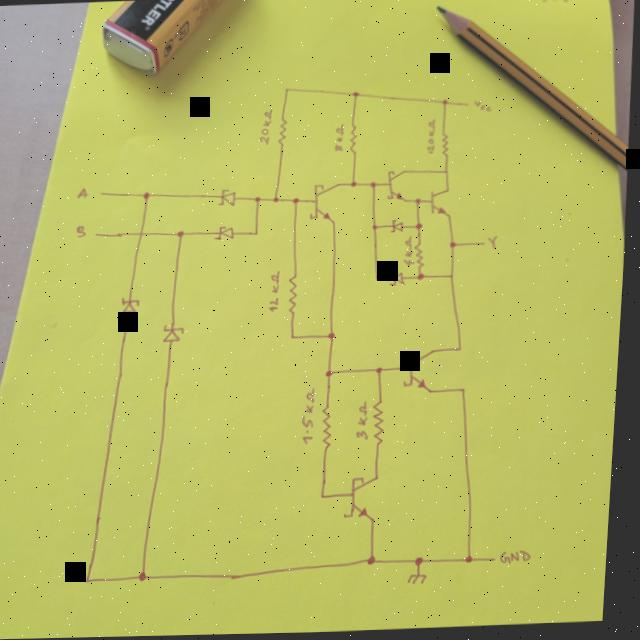crossover: (139, 230, 148, 238)
diode: (163, 322, 188, 344), (121, 296, 144, 316), (219, 189, 239, 208), (391, 270, 412, 288), (215, 227, 238, 241), (390, 219, 406, 236)
ground: (412, 575, 434, 587)
junction: (142, 570, 155, 583), (420, 558, 431, 568), (470, 556, 481, 566), (328, 369, 339, 379), (419, 274, 430, 284), (373, 557, 383, 567), (330, 331, 340, 341), (90, 575, 100, 585), (378, 366, 387, 376), (255, 195, 265, 204), (178, 229, 188, 238), (143, 192, 153, 200), (352, 91, 361, 99), (451, 242, 460, 250), (417, 223, 425, 232), (273, 196, 282, 204), (292, 333, 300, 342), (254, 230, 263, 238), (463, 387, 471, 396), (294, 198, 302, 206), (371, 182, 379, 190), (441, 100, 449, 108), (324, 493, 332, 501), (283, 87, 291, 95), (351, 181, 359, 188), (460, 347, 467, 354), (417, 198, 423, 206), (451, 275, 458, 281), (374, 225, 380, 232), (444, 170, 451, 176), (377, 276, 383, 282)
resistor: (374, 400, 392, 447), (322, 405, 339, 452), (288, 274, 302, 315), (276, 117, 290, 146), (348, 124, 361, 155), (439, 131, 453, 159), (416, 243, 429, 270)
terminal: (462, 102, 473, 112), (93, 230, 103, 238), (99, 189, 107, 197), (481, 243, 489, 249), (498, 558, 504, 564)
text: (304, 388, 322, 446), (257, 106, 276, 148), (270, 271, 285, 315), (360, 402, 375, 442), (505, 550, 538, 568), (426, 120, 439, 157), (405, 236, 420, 267), (334, 123, 348, 154), (473, 100, 494, 115), (489, 236, 502, 251), (78, 187, 93, 199), (77, 225, 90, 237)
transistor: (403, 350, 442, 397), (347, 477, 386, 524), (307, 181, 341, 226), (385, 171, 411, 205), (431, 189, 455, 220)
